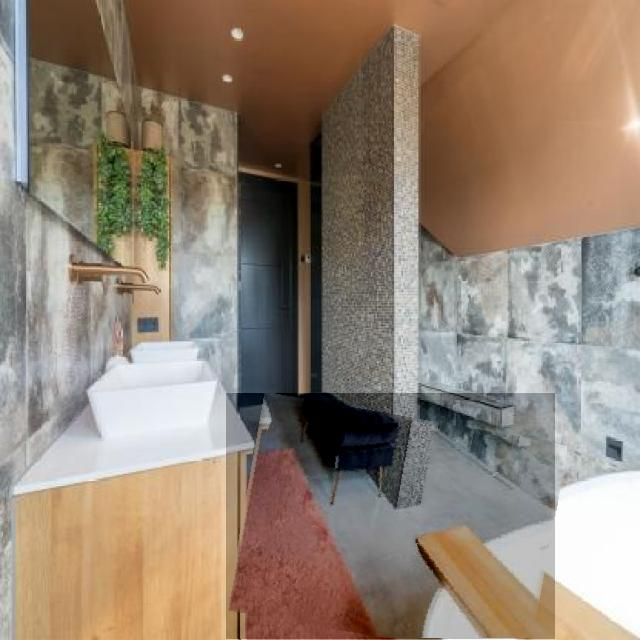floor: (227, 394, 555, 639)
